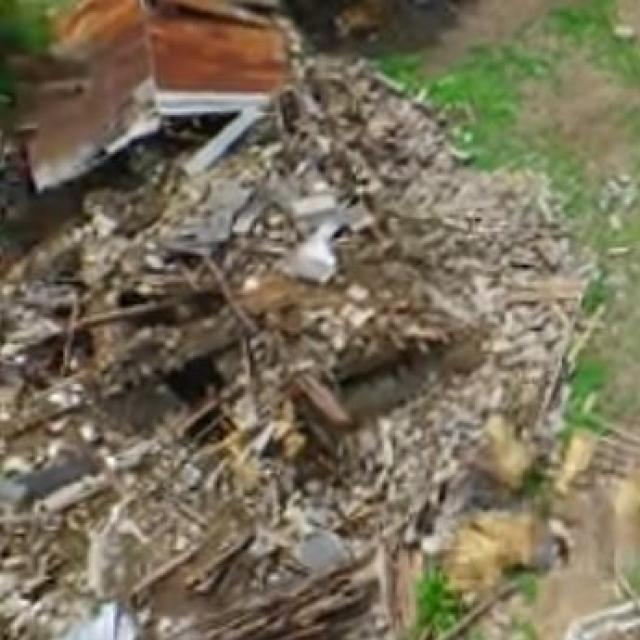collapsed_building: (6, 137, 528, 590)
